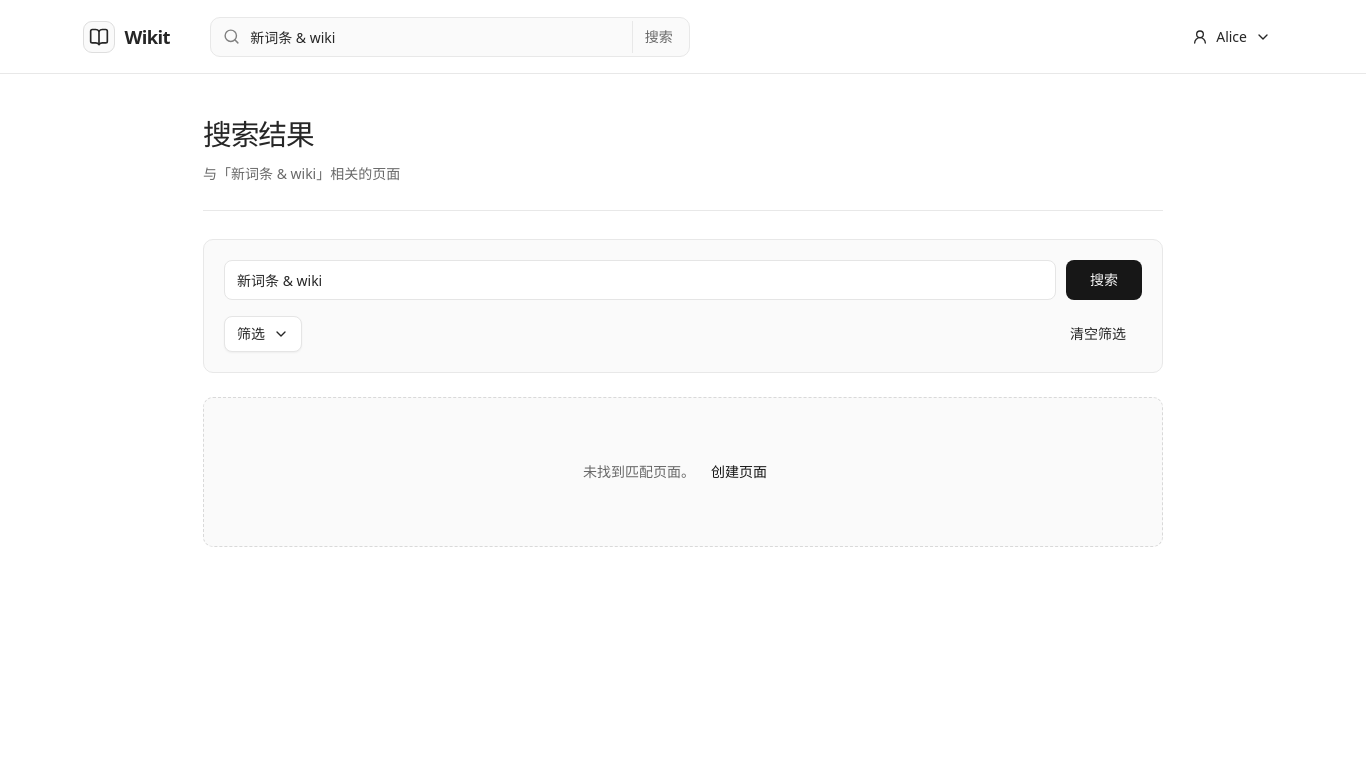
Test: offers creation after a completed empty search and prefills its term
Check: the heading "搜索结果" is shown, box [203,114,314,153]
Click the link "创建页面" at [739, 472], box [711,462,767,481]
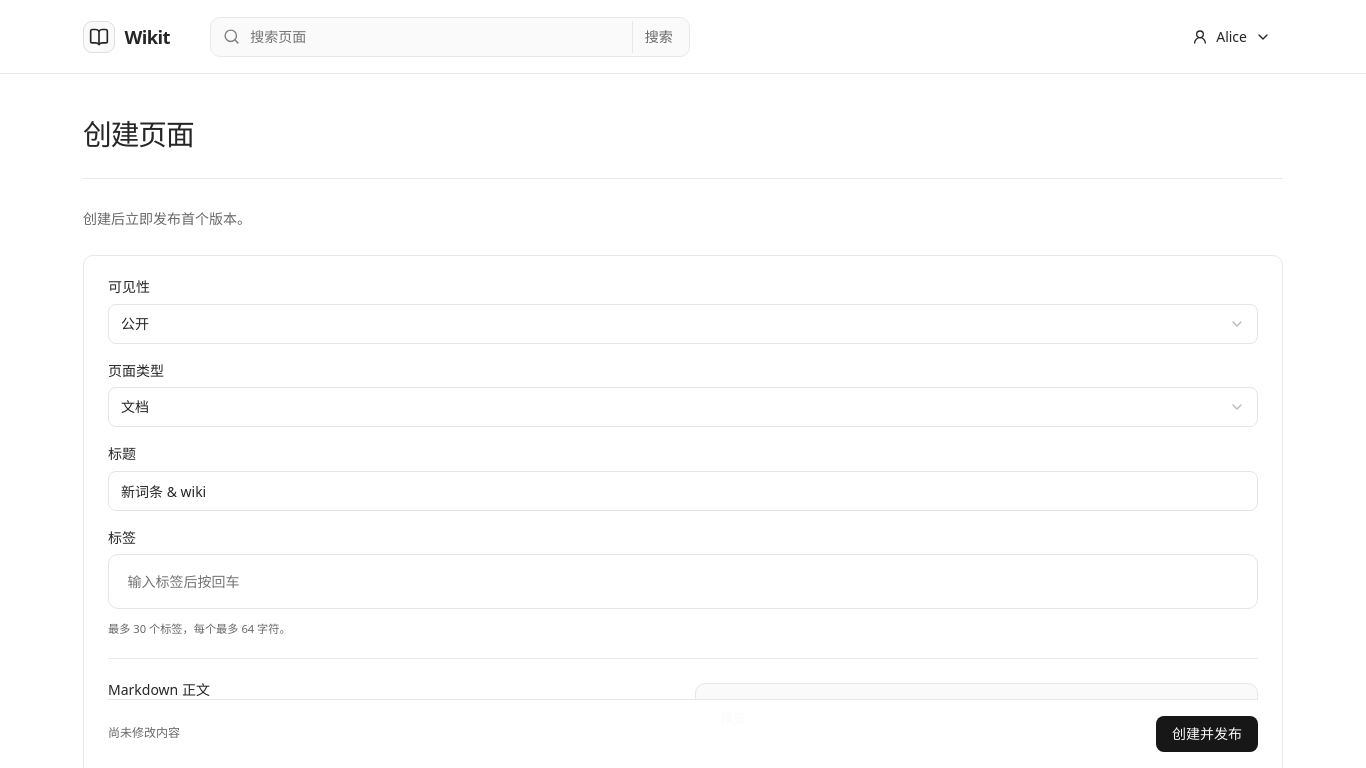
Check: the field labelled "标题" holds "新词条 & wiki", box [108,471,1258,511]
